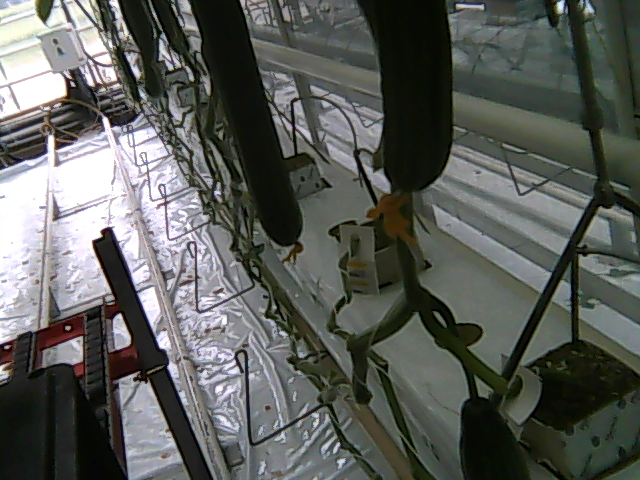concombre: (186, 1, 306, 271), (353, 1, 455, 239), (455, 389, 538, 480)
